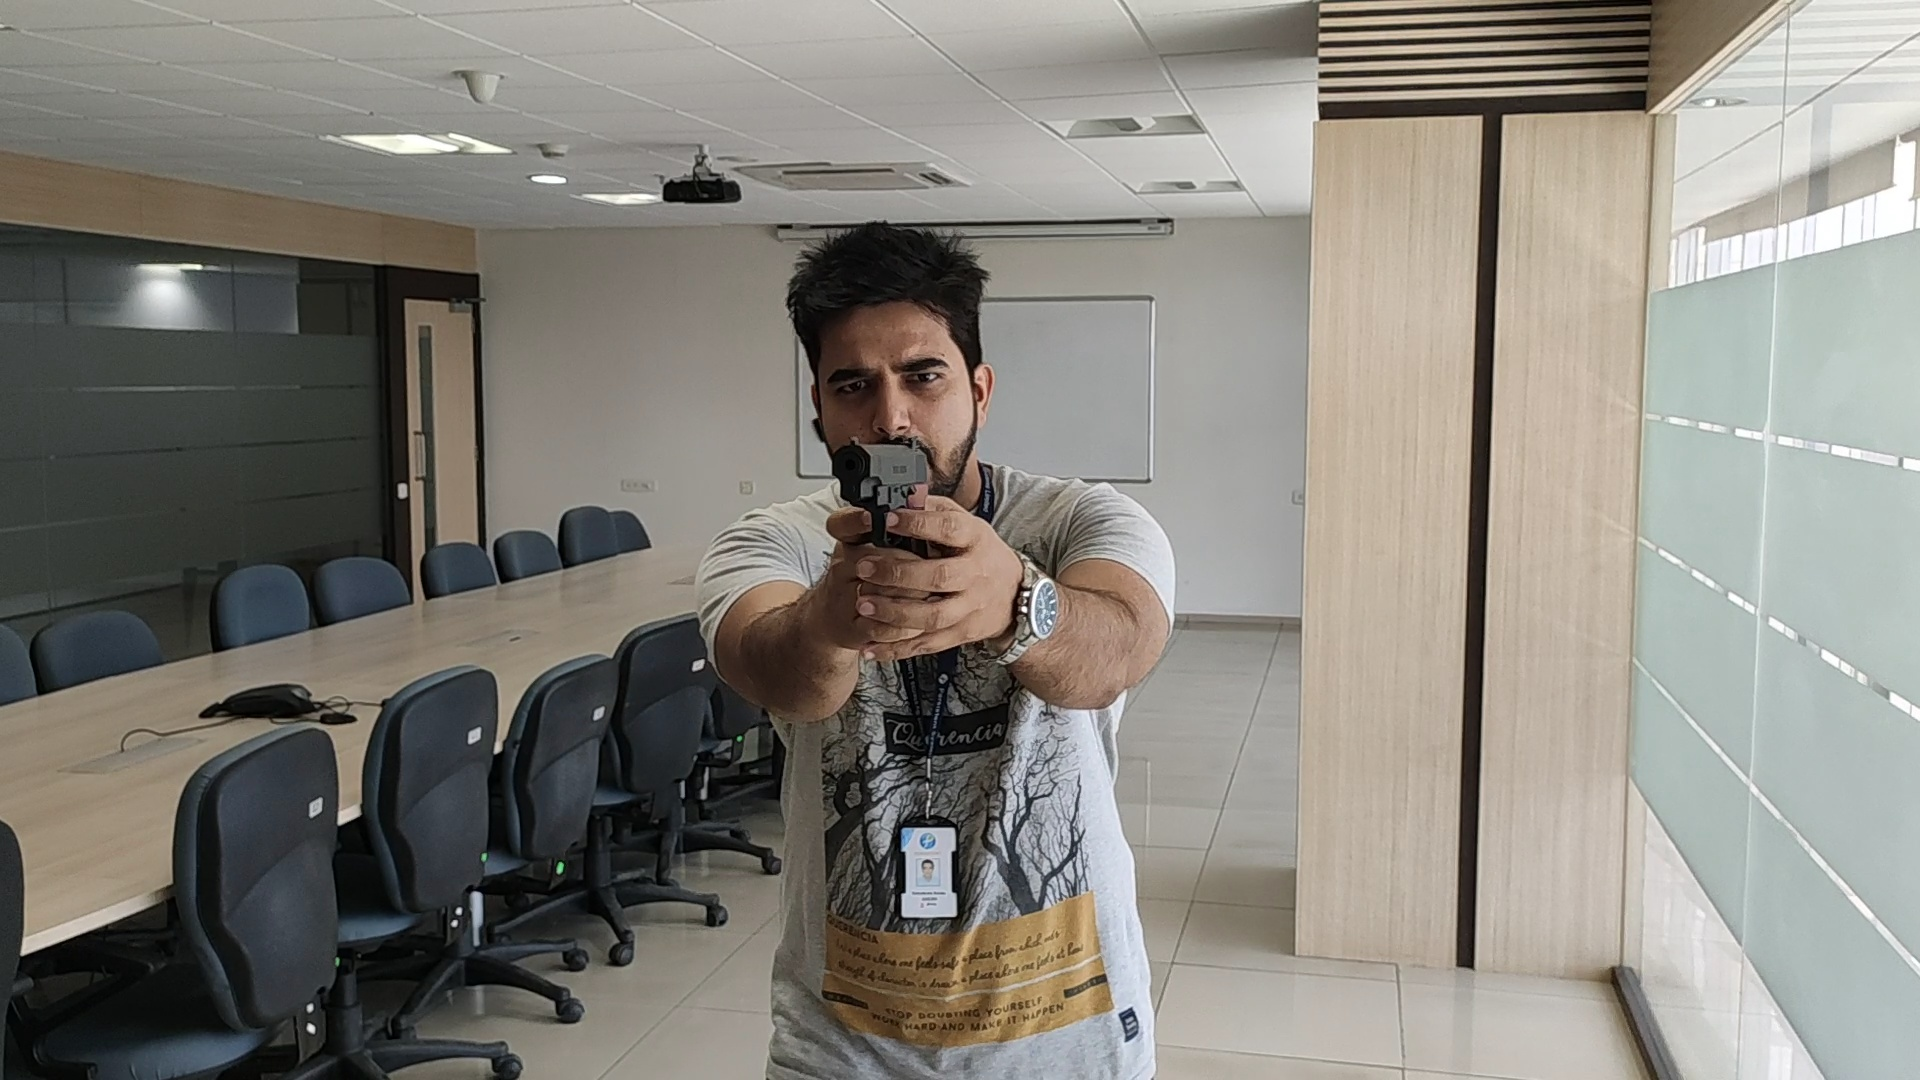gun: (831, 436, 928, 509)
